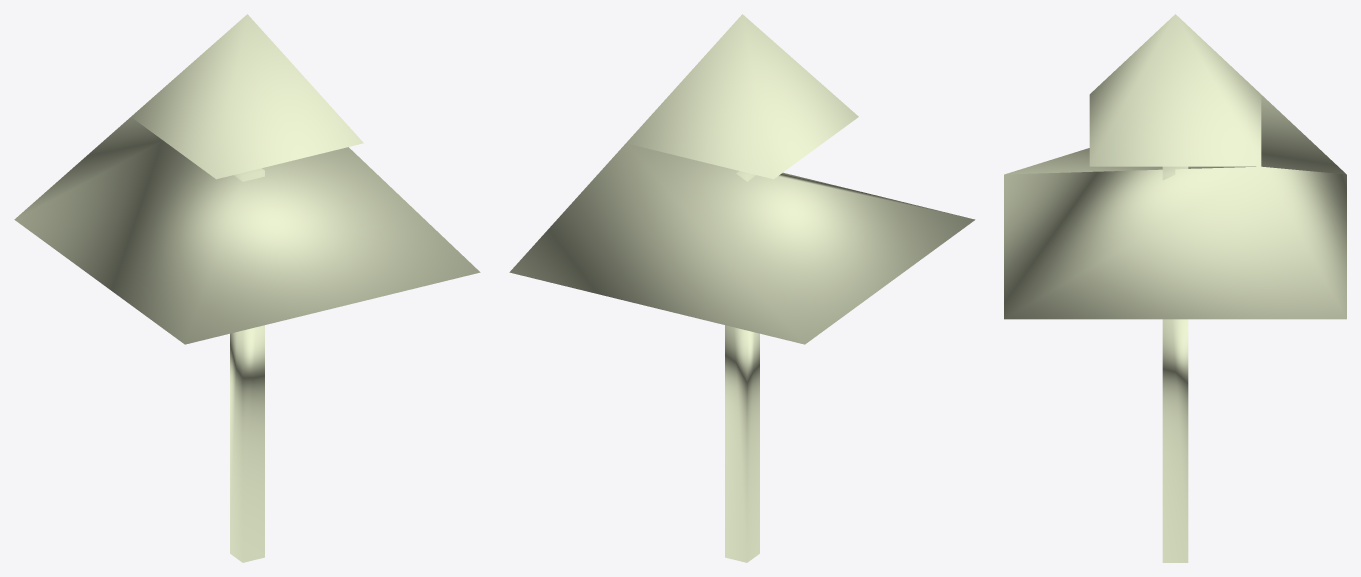
The model's file is birch_near.glb.
The picture shows the model from 3 angles, left to right: view 1: azimuth 30°, elevation 25°; view 2: azimuth 150°, elevation 25°; view 3: azimuth 270°, elevation 25°; orthographic projection.
Visible parts, largest first — view 1: BirchNear; view 2: BirchNear; view 3: BirchNear.
Boxes of the visible parts, left/top/right/bottom form: BirchNear: left=14, top=14, right=480, bottom=562; BirchNear: left=509, top=14, right=975, bottom=562; BirchNear: left=1004, top=14, right=1346, bottom=562.
Bounding box in the file's own units: 8 × 14 × 8.
